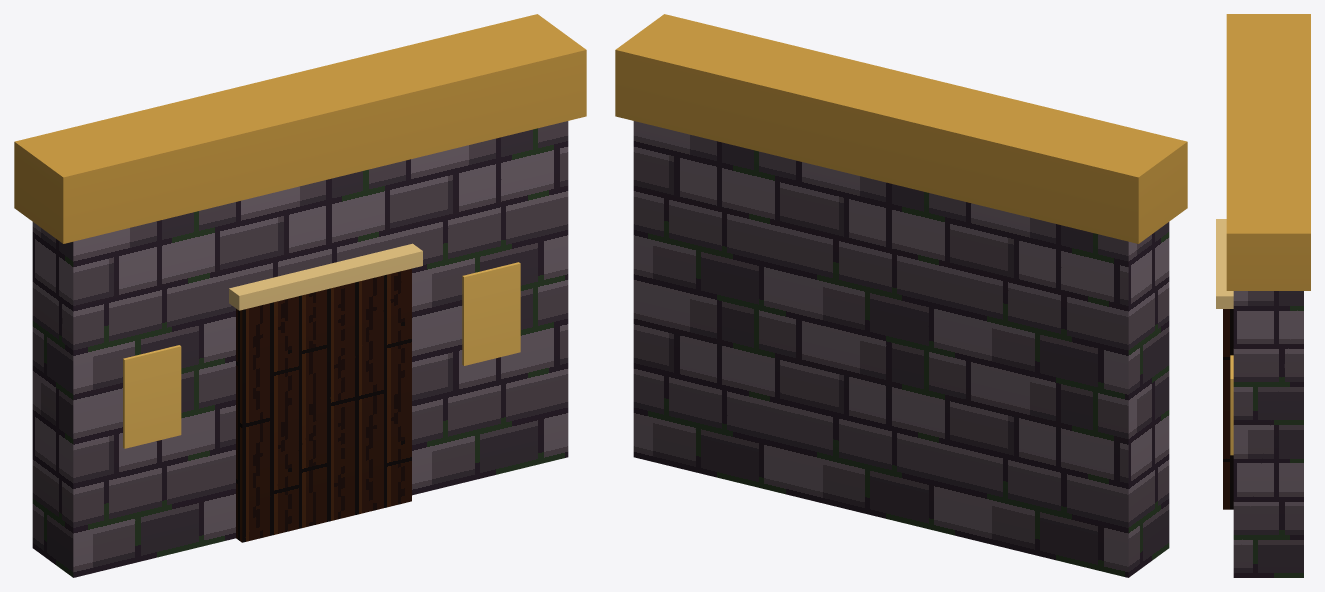
File: hall_facade.glb
3 views of the same model, side by side, from view 1: azimuth 30°, elevation 25°; view 2: azimuth 150°, elevation 25°; view 3: azimuth 270°, elevation 25° (orthographic). The views are drawn at different scales.
Parts seen in each view (by area): view 1: hall_facade; view 2: hall_facade; view 3: hall_facade.
Boxes of the visible parts, <box> form: hall_facade: <box>14,14,586,577</box>; hall_facade: <box>615,14,1187,577</box>; hall_facade: <box>1216,14,1310,577</box>.
Size of the model in its own units: 7.4 by 5.5 by 1.35.
Materials: 4 (2 with a texture image).
